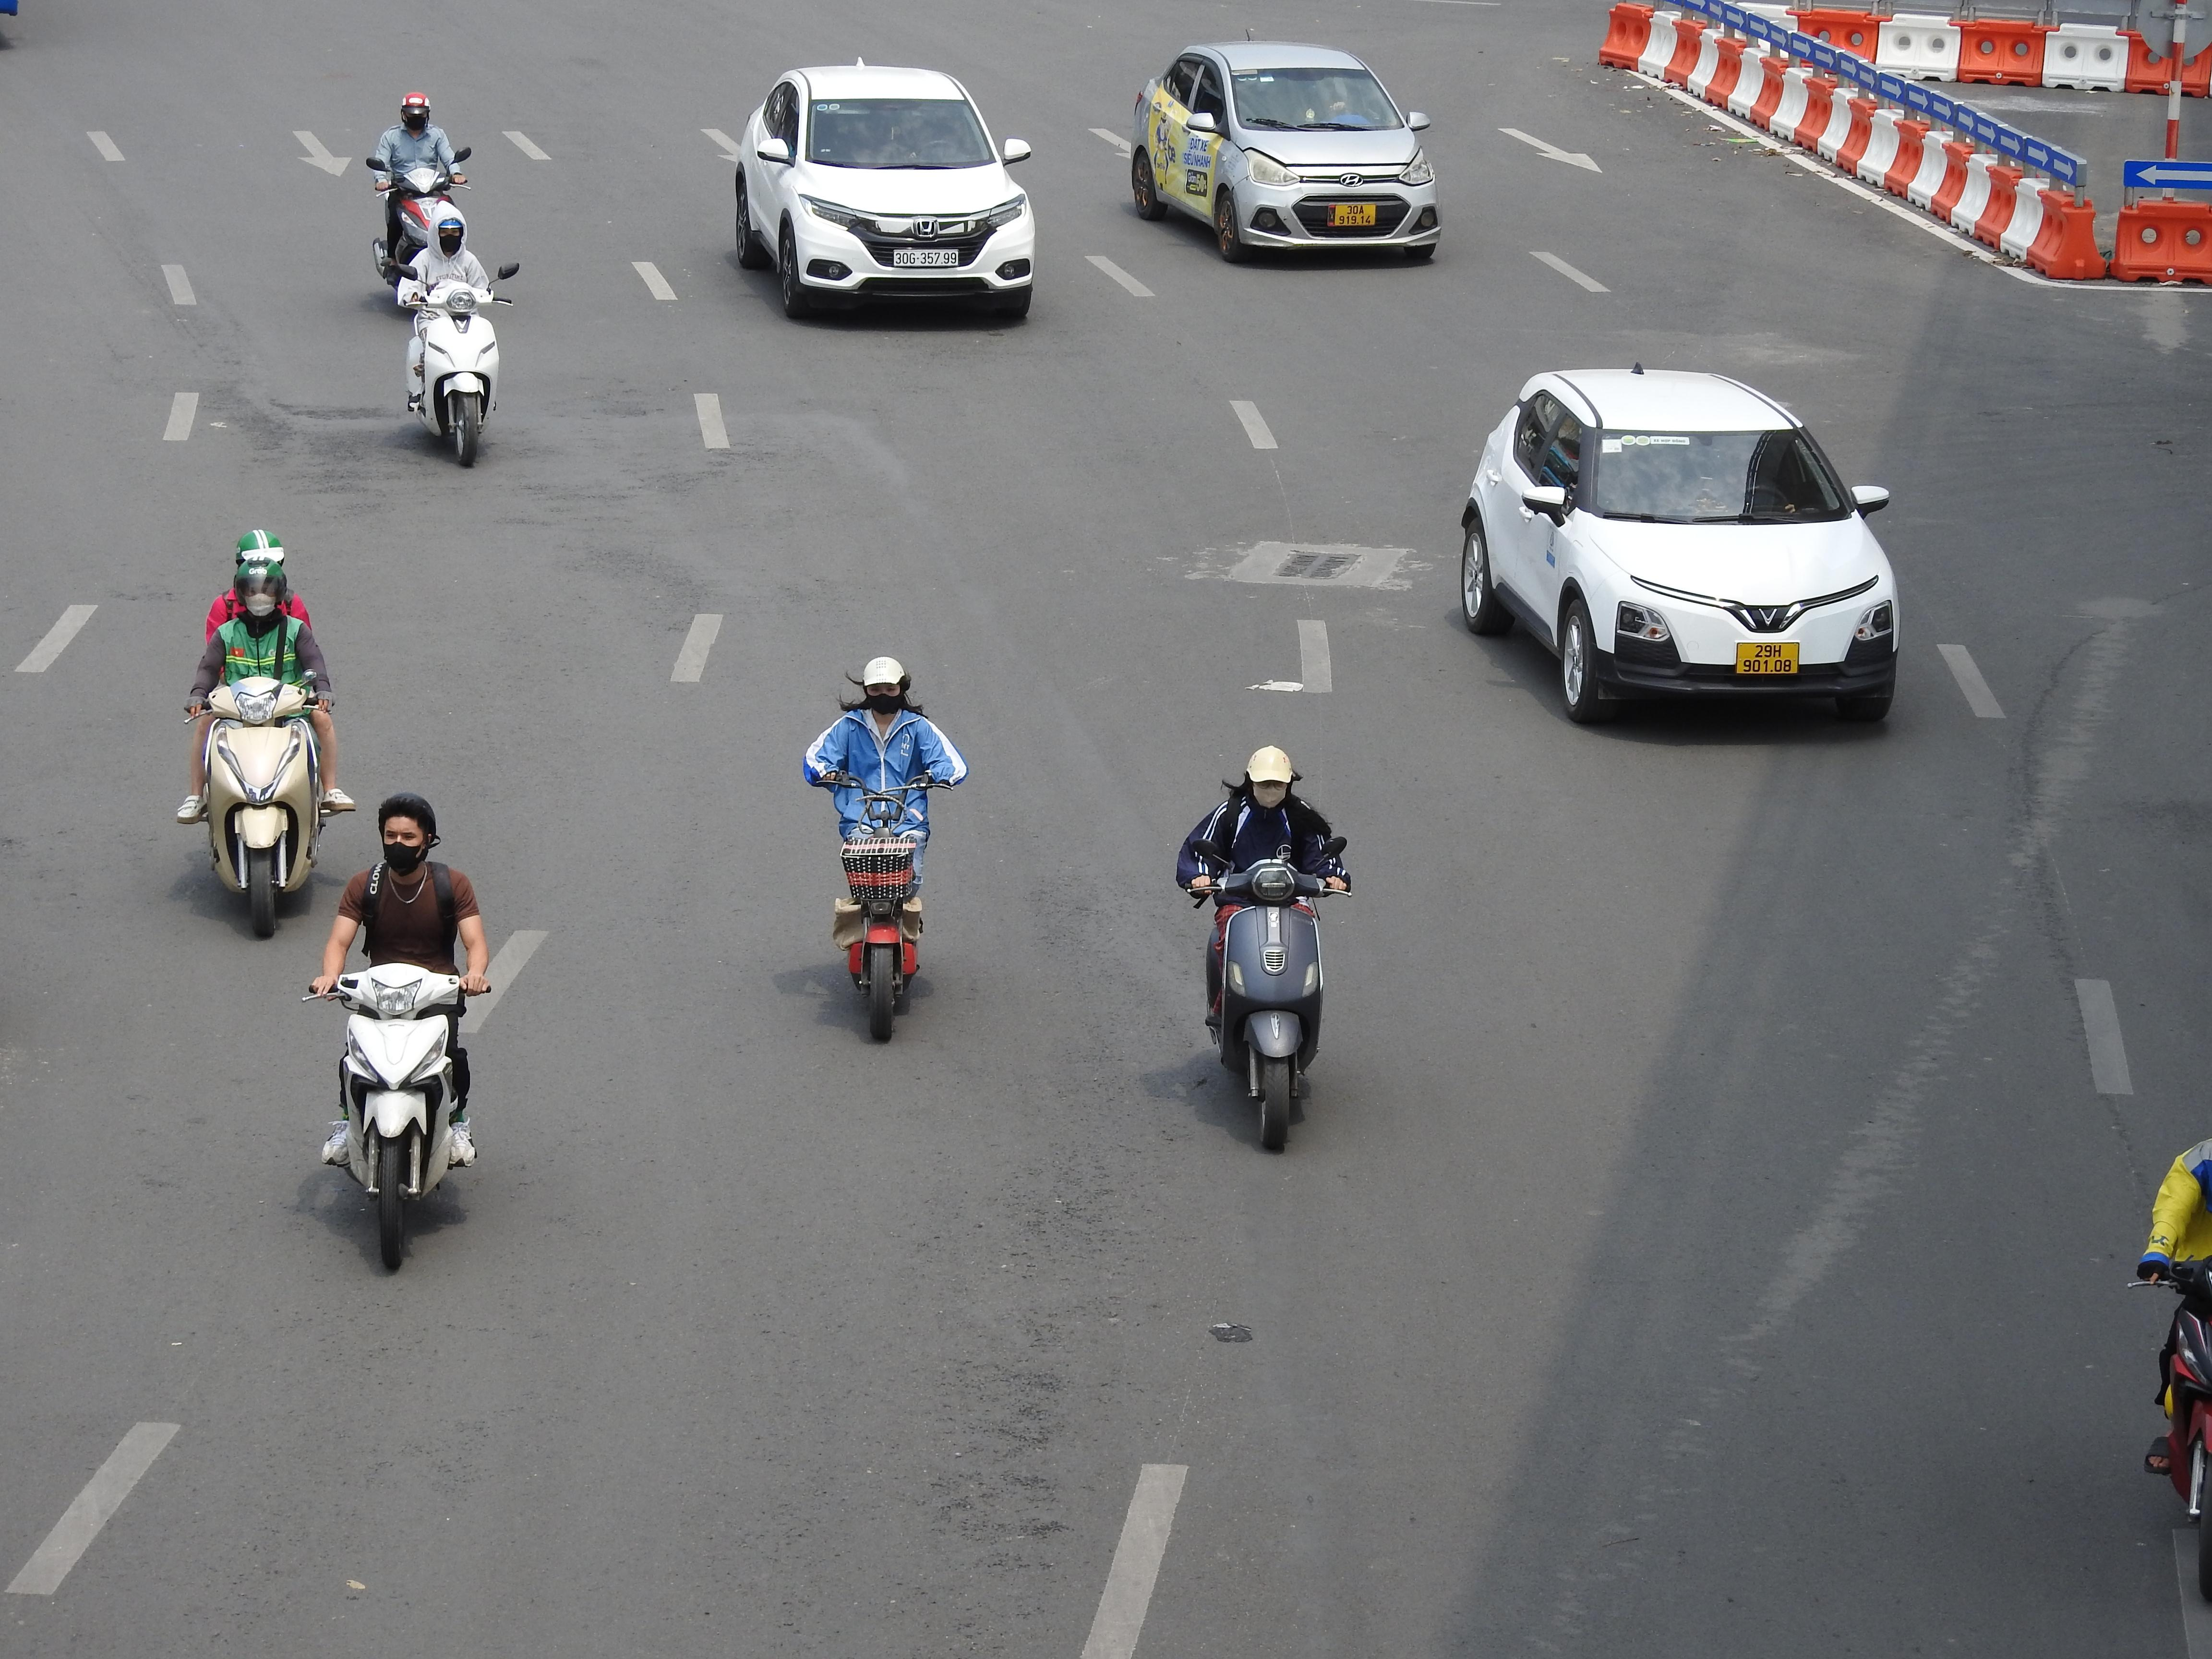BSD: (894, 247, 956, 265)
BSV: (1737, 643, 1799, 674), (1329, 204, 1376, 227)
car: (1458, 366, 1902, 728), (730, 63, 1036, 324), (1127, 40, 1440, 267)
motorbike: (312, 791, 489, 1274), (1181, 744, 1348, 1155), (181, 530, 345, 941), (808, 653, 961, 1044), (2134, 1065, 2212, 1601), (402, 202, 516, 469), (369, 91, 469, 305)
